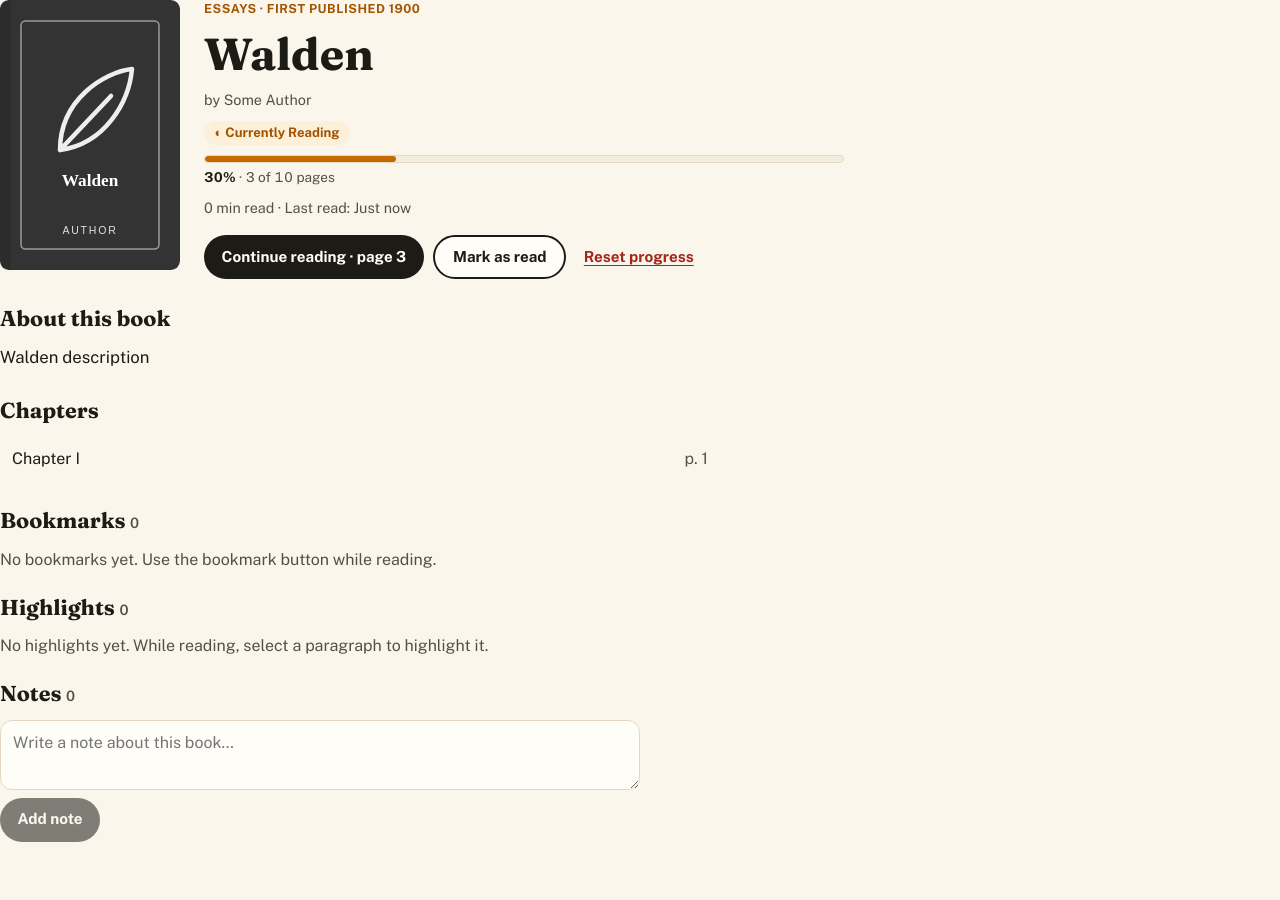
Test: Book details › resets progress after confirmation
Click the button with test id "reset-progress": point(639, 257) [576,235,702,279]
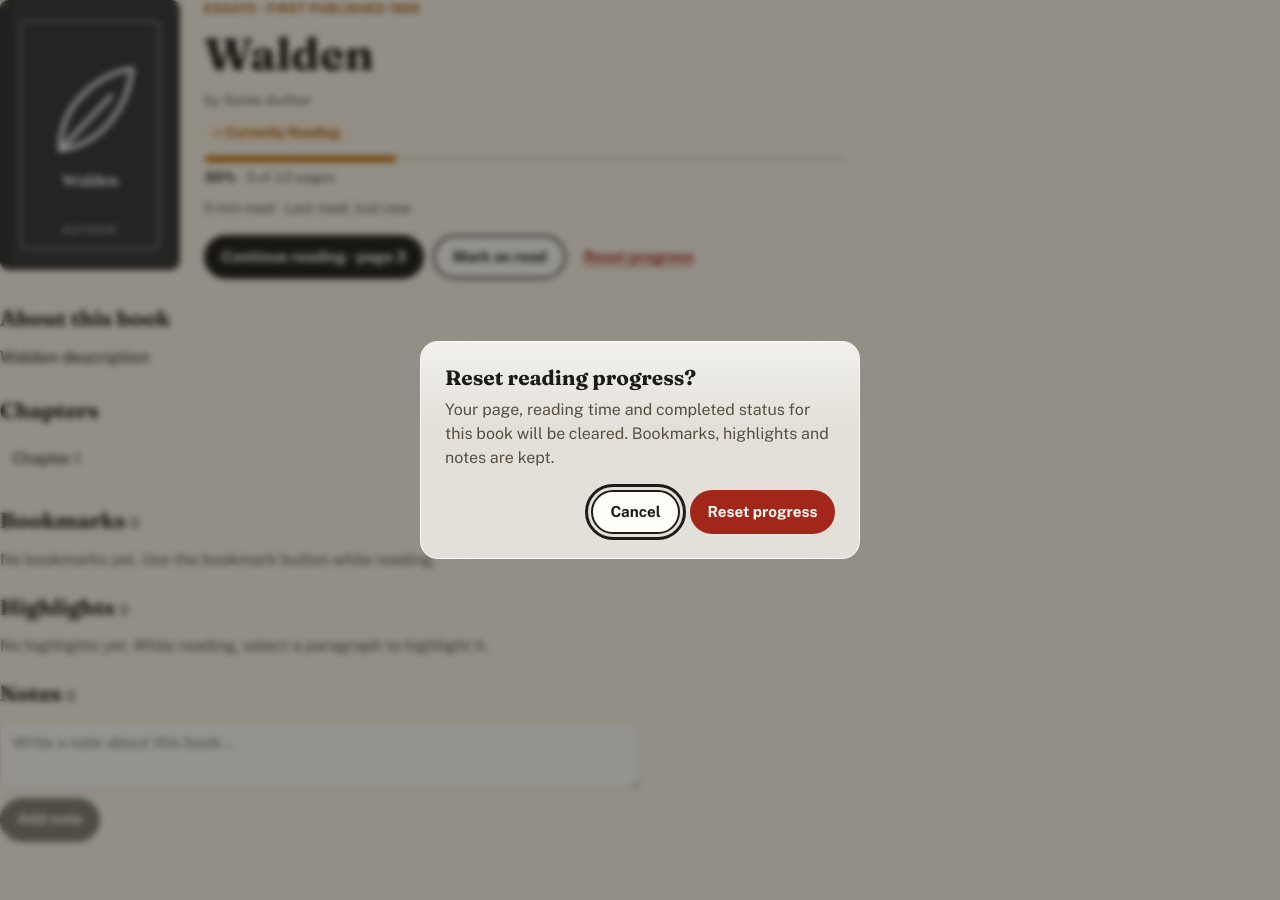
Expected: the dialog "Reset reading progress?" shows "Bookmarks, highlights and notes are kept.", [445,400,829,467]
Click the button "Reset progress": point(762, 512) [690,490,835,534]
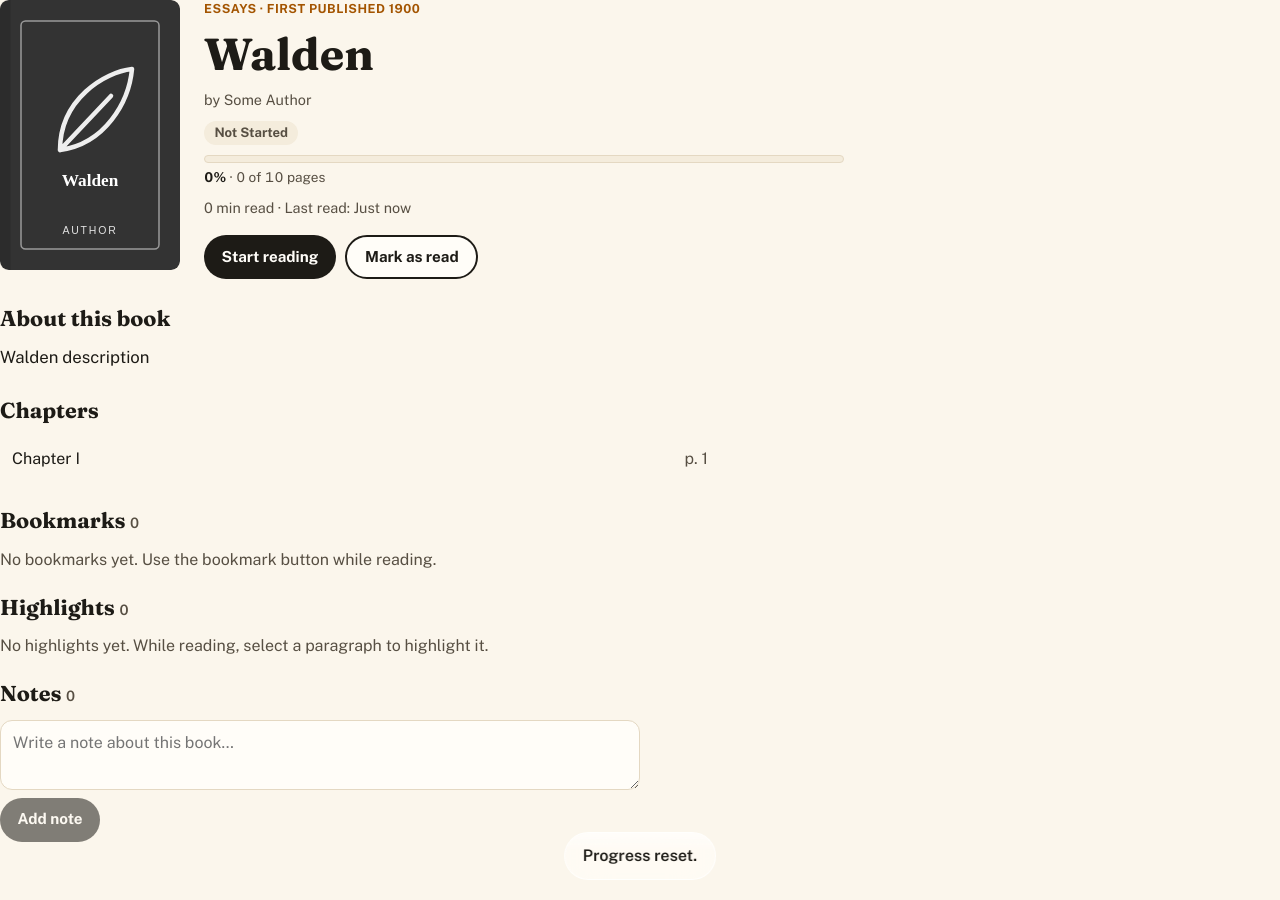
Expected: the link "Start reading" is shown, [204,235,336,279]
